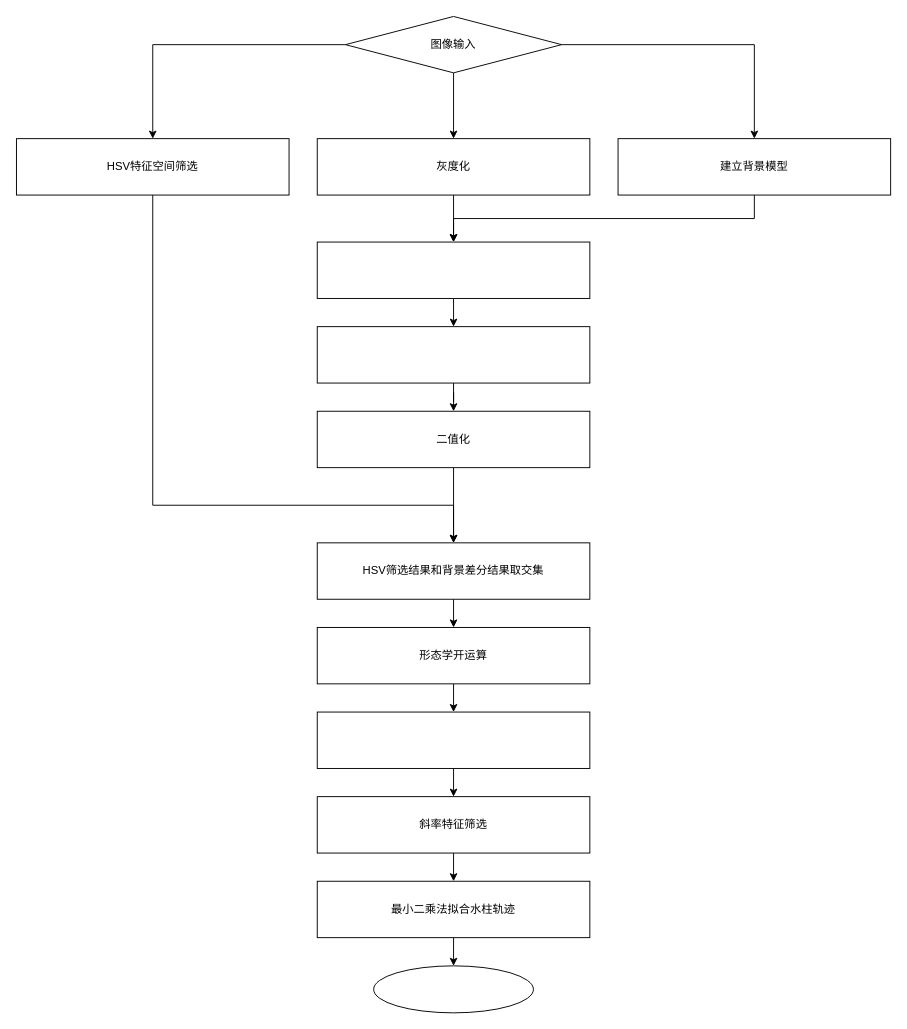
This 907x1029 diagram has some shape labels left out. Here are the shapes that lost their labels. From the top down, the centre of each, then its label:
At (x=453, y=269): "背景差分".
At (x=453, y=354): "中值滤波".
At (x=453, y=739): "轮廓查找与特征筛选".
At (x=453, y=989): "END".
